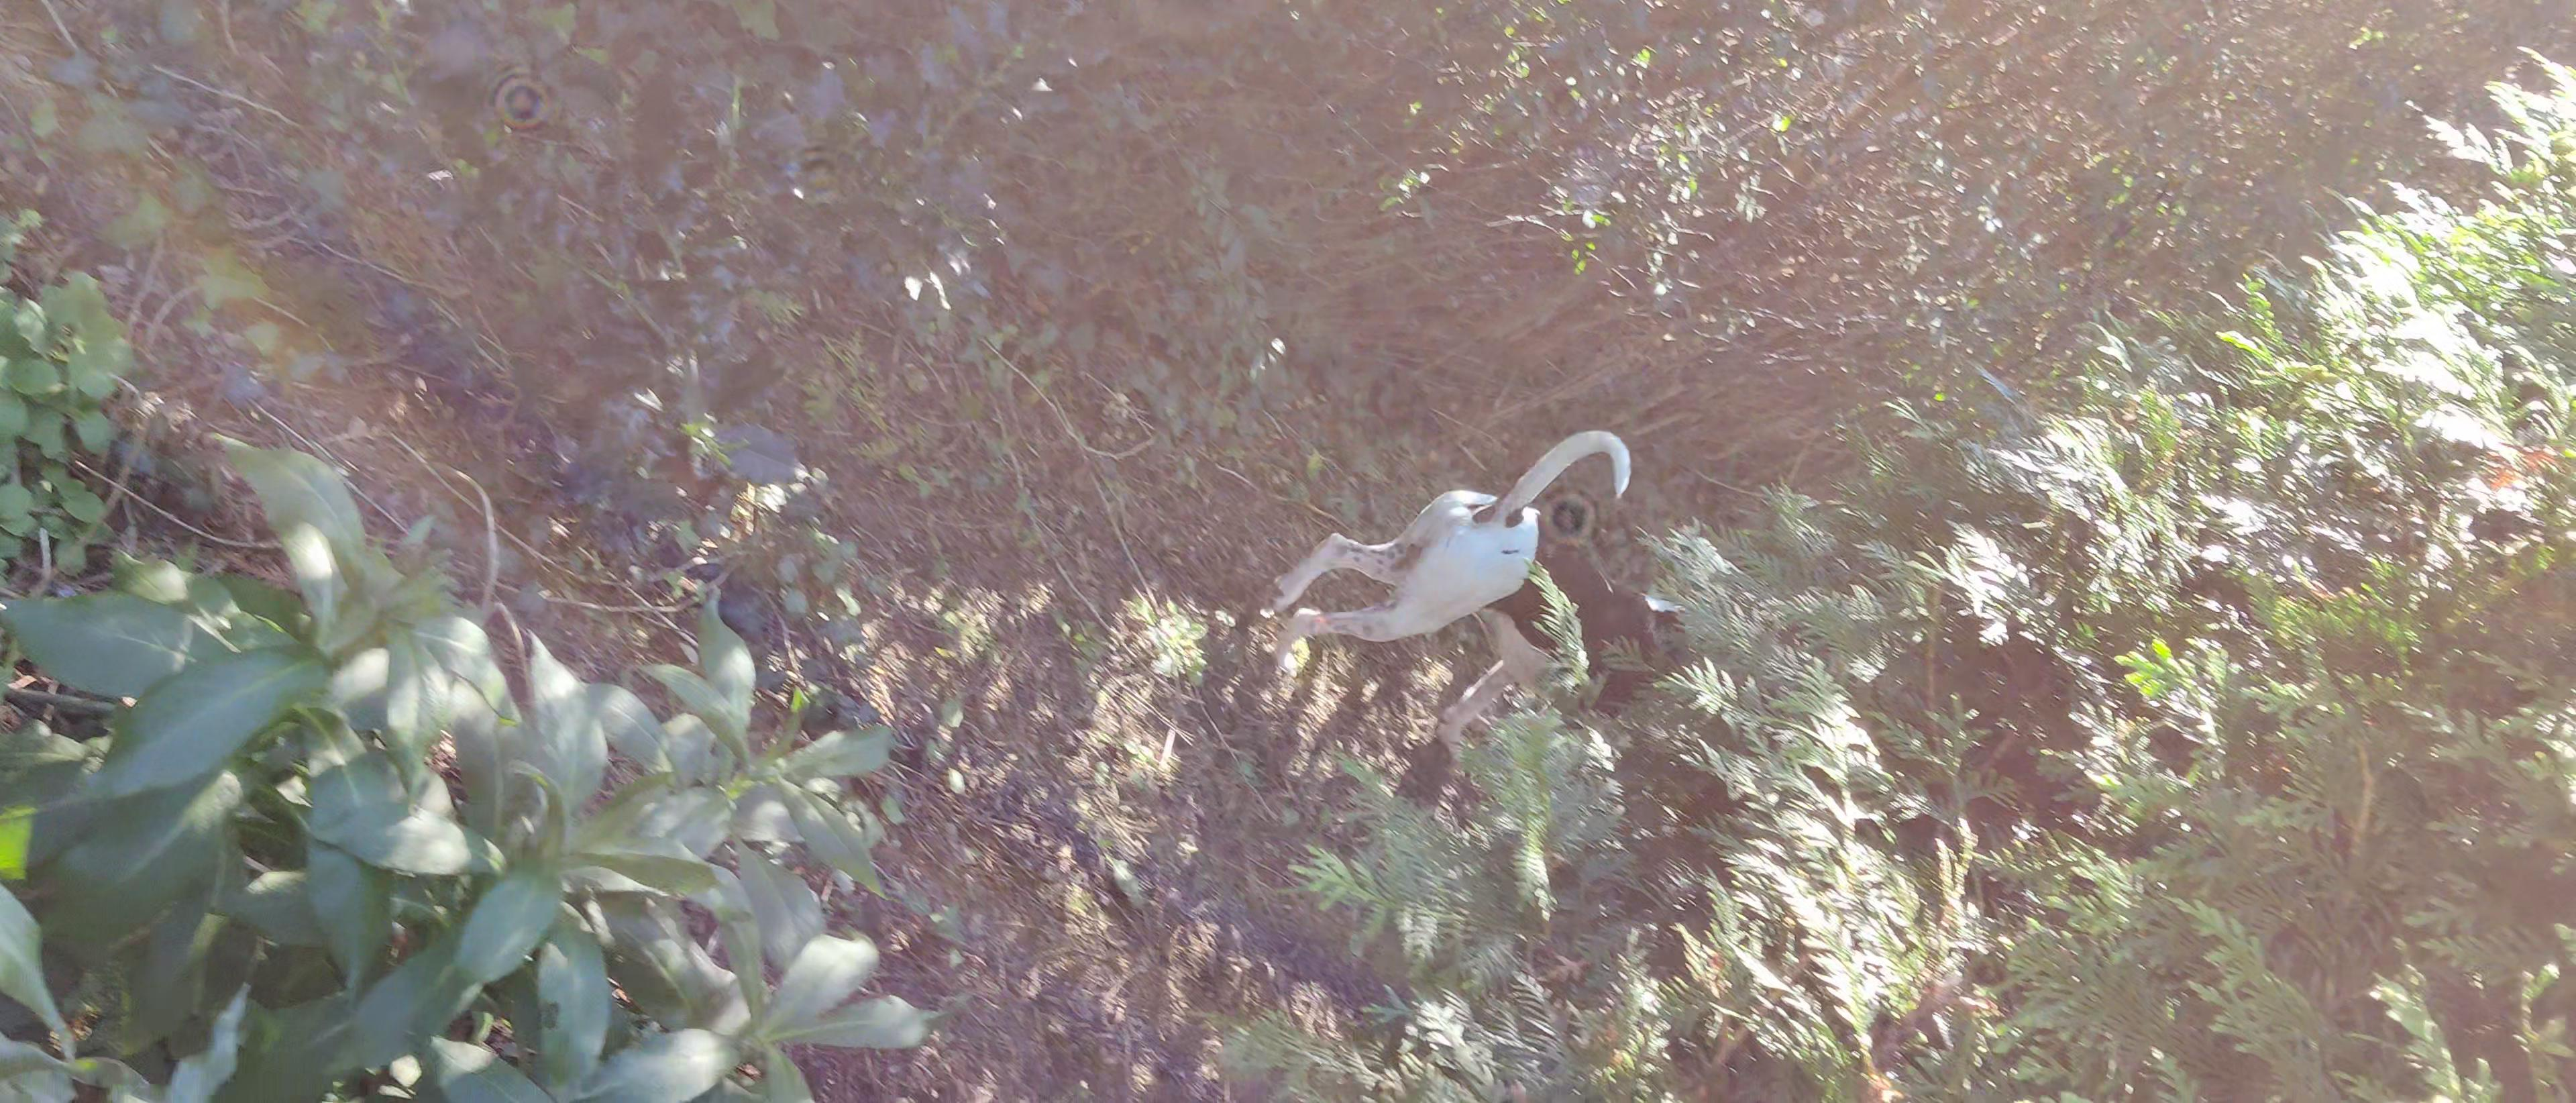Dog: (1260, 429, 1699, 755)
